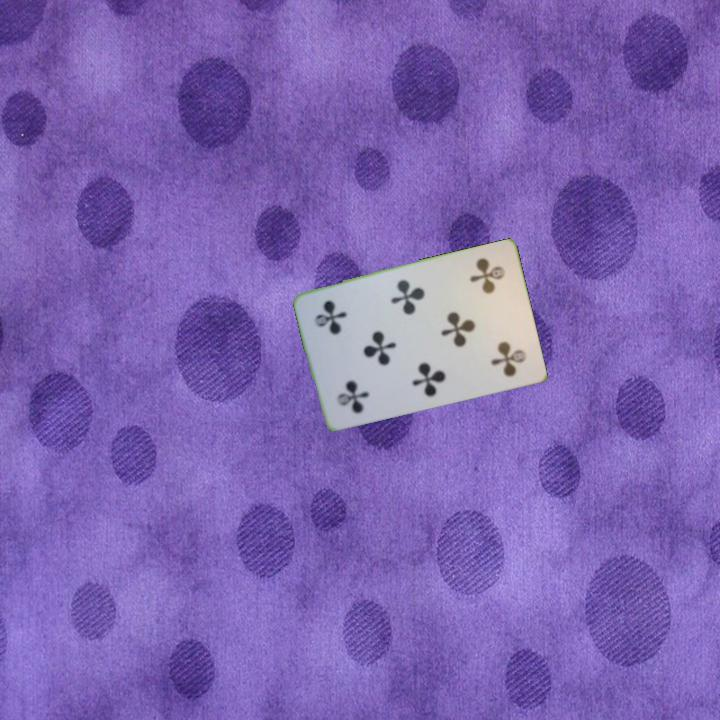c_8.png: (451, 249, 522, 327), (316, 344, 387, 421)
